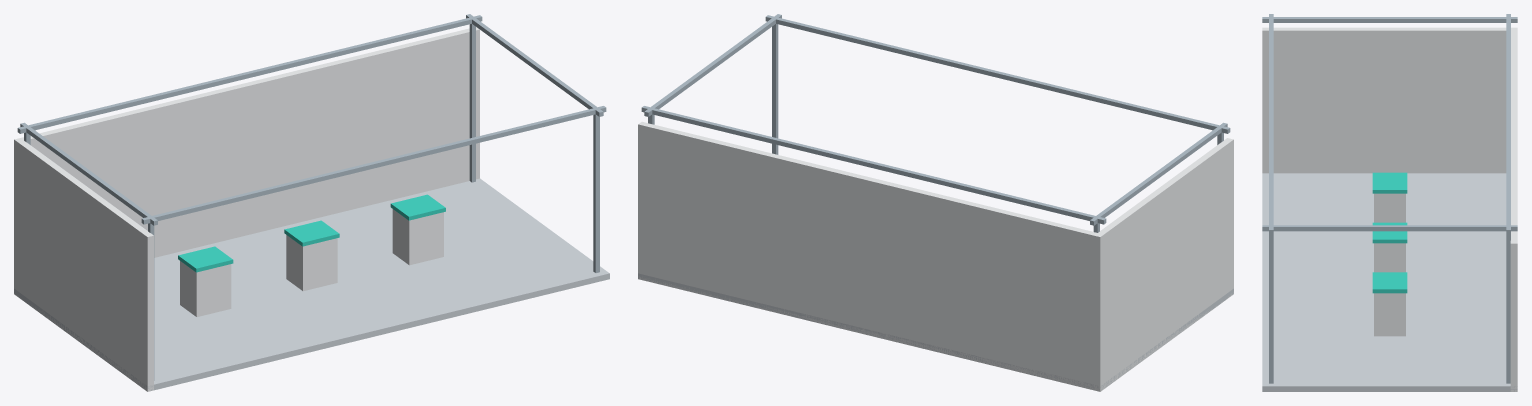
The picture shows the model from 3 angles, left to right: view 1: azimuth 30°, elevation 25°; view 2: azimuth 150°, elevation 25°; view 3: azimuth 270°, elevation 25°; orthographic projection. The views are drawn at different scales.
Visible parts, largest first — view 1: Exhibition Booth Concept; view 2: Exhibition Booth Concept; view 3: Exhibition Booth Concept.
Boxes of the visible parts, x1,y1,x2,y2 form: Exhibition Booth Concept: [14, 14, 609, 391]; Exhibition Booth Concept: [638, 14, 1233, 391]; Exhibition Booth Concept: [1262, 14, 1517, 391].
Size of the model in its own units: 10 by 3.49 by 5.
